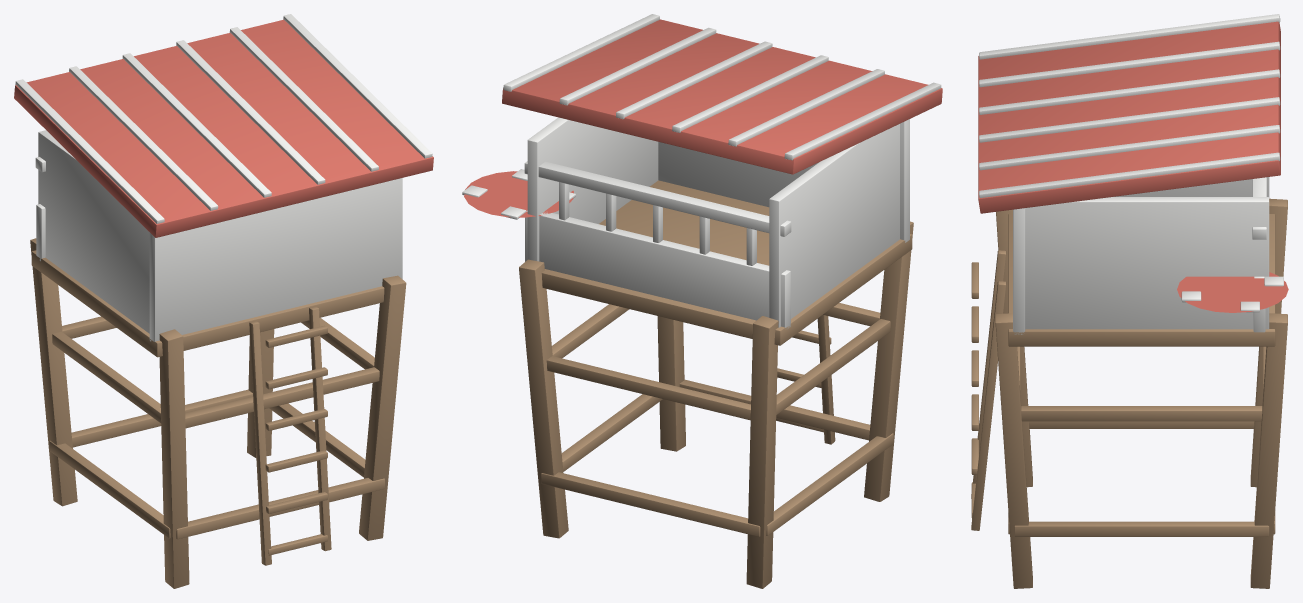
File: th45_rettungsturm.glb
3 renders of one model, left to right at view 1: azimuth 30°, elevation 25°; view 2: azimuth 150°, elevation 25°; view 3: azimuth 270°, elevation 25°, orthographic. The views are drawn at different scales.
Parts seen in each view (by area): view 1: Cube.023, Cube.015, Cube.013, Cube.002, Cube, Cube.012, Cube.001, Cube.009, Cube.036, Cube.005, Cube.004, Cube.037 (+18 smaller); view 2: Cube.023, Cube.013, Cube.016, Cube.012, Cube.014, Cube.003, Cube.001, Cube.015, Cube, Cube.022, Cube.007, Cube.011 (+15 smaller); view 3: Cube.023, Cube.014, Cube.012, Cube.003, Cube.002, Cube.006, Cube.010, Rettungsring, Cube.024, Cube.027, Cube.025, Cube.026 (+10 smaller).
Boxes of the visible parts, bbox=[...] form: Cube.023: bbox=[14, 19, 433, 237]; Cube.015: bbox=[149, 178, 402, 341]; Cube.013: bbox=[38, 130, 149, 333]; Cube.002: bbox=[359, 275, 406, 540]; Cube: bbox=[159, 329, 189, 588]; Cube.012: bbox=[31, 250, 384, 357]; Cube.001: bbox=[30, 238, 77, 506]; Cube.009: bbox=[185, 367, 379, 428]; Cube.036: bbox=[249, 321, 271, 565]; Cube.005: bbox=[176, 478, 384, 539]; Cube.004: bbox=[49, 440, 170, 538]; Cube.037: bbox=[309, 306, 331, 551]; Cube.023: bbox=[502, 19, 942, 174]; Cube.013: bbox=[769, 124, 899, 327]; Cube.016: bbox=[525, 210, 790, 328]; Cube.012: bbox=[541, 180, 912, 345]; Cube.014: bbox=[527, 117, 658, 261]; Cube.003: bbox=[519, 259, 568, 538]; Cube.001: bbox=[746, 316, 778, 588]; Cube.015: bbox=[658, 119, 909, 242]; Cube: bbox=[864, 221, 913, 501]; Cube.022: bbox=[524, 161, 791, 236]; Cube.007: bbox=[541, 472, 760, 536]; Cube.011: bbox=[546, 356, 750, 420]; Cube.023: bbox=[978, 21, 1280, 213]; Cube.014: bbox=[1025, 197, 1269, 329]; Cube.012: bbox=[1008, 214, 1275, 346]; Cube.003: bbox=[1250, 313, 1287, 588]; Cube.002: bbox=[995, 313, 1032, 588]; Cube.006: bbox=[1014, 521, 1269, 536]; Cube.010: bbox=[1021, 406, 1262, 421]; Rettungsring: bbox=[1177, 272, 1288, 312]; Cube.024: bbox=[979, 14, 1280, 59]; Cube.027: bbox=[979, 97, 1280, 142]; Cube.025: bbox=[979, 41, 1280, 87]; Cube.026: bbox=[979, 69, 1280, 114].
Size of the model in its own units: 3.32 by 4.09 by 2.61.
